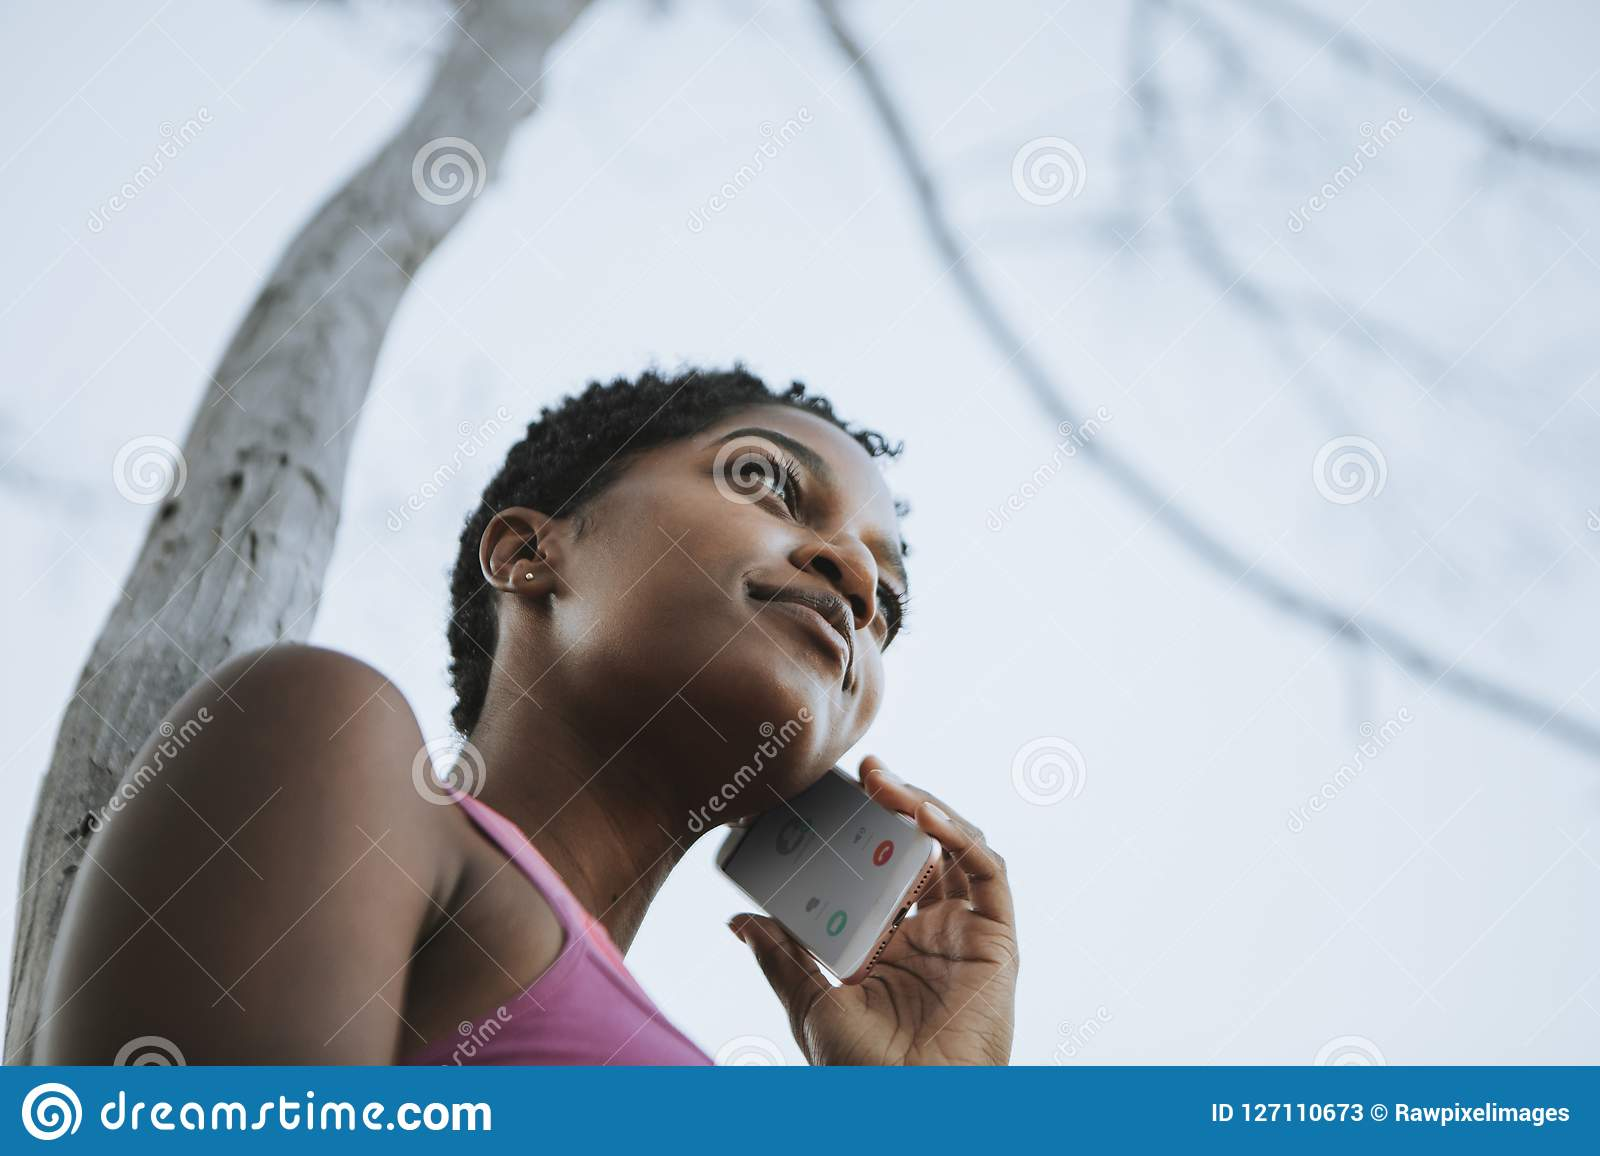phone: (717, 757, 949, 997)
talk: (653, 422, 1021, 1069)
